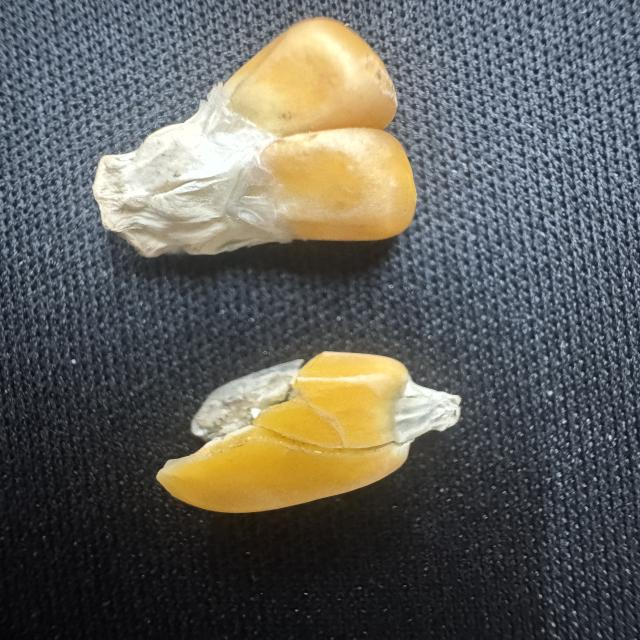Bad-Seed: (91, 8, 433, 260), (144, 342, 482, 518)
